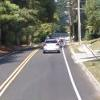Car: (37, 29, 74, 64)
